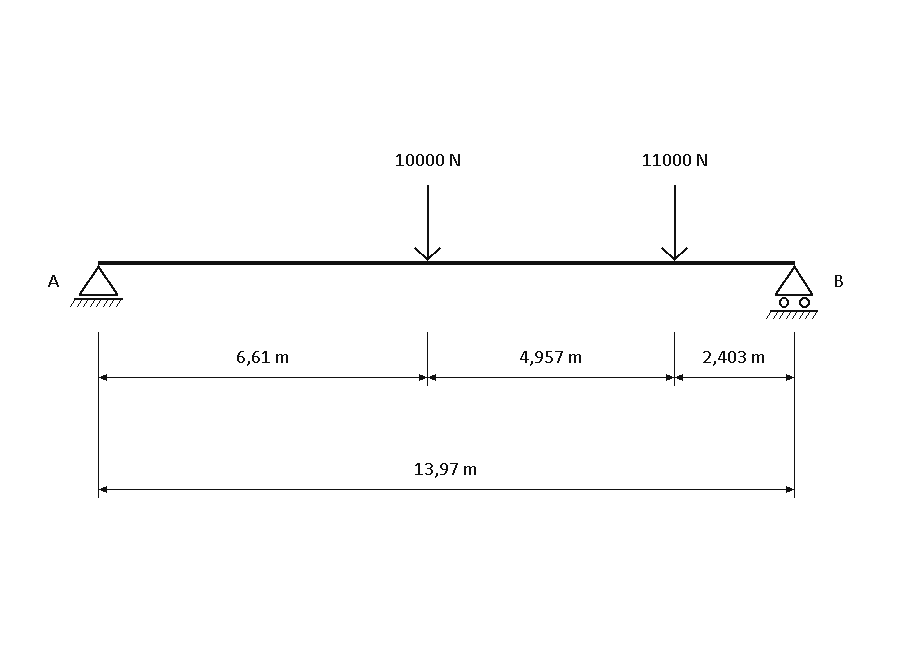pin_support: (70, 265, 123, 307)
point_load: (414, 185, 441, 261), (661, 185, 688, 261)
roller_support: (766, 265, 818, 319)
